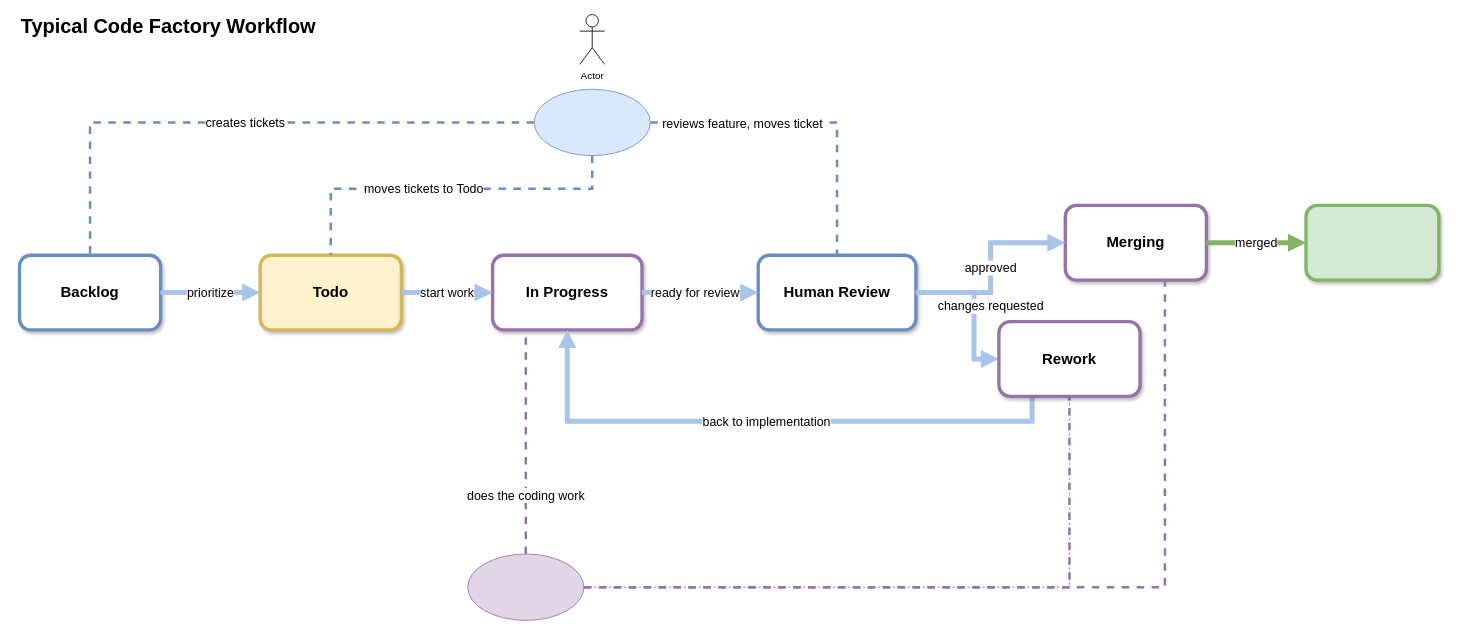
Some shapes in this 1459 by 635 pixel diagram are drawn without their labels. The shapes that lost their labels are listed below. From the top down, each one's centre as x and y in pixels, then its label:
the point at 591,122: Human
the point at 1373,243: Done
the point at 525,586: Agent
